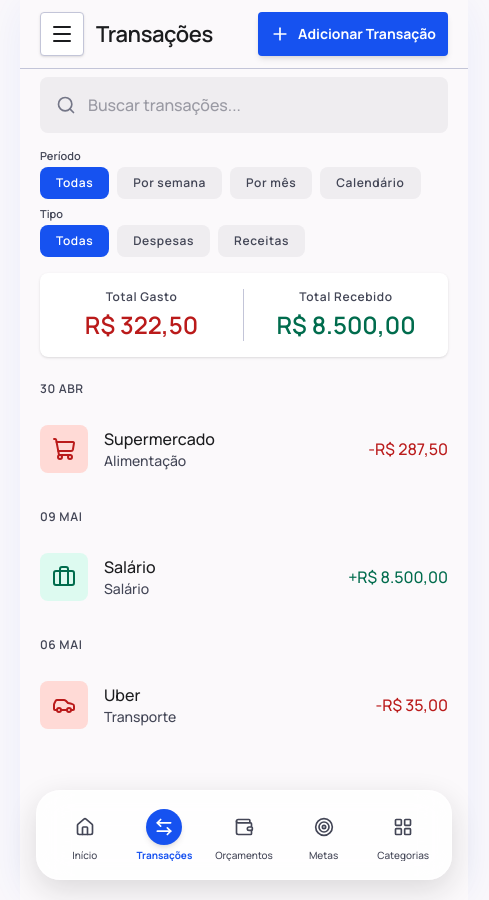
Test: TransacoesClient › filtra transações localmente pela categoria
Step 1. Type "transporte" into the field with placeholder "Buscar transações..." → (244, 105), box [40,77,448,133]
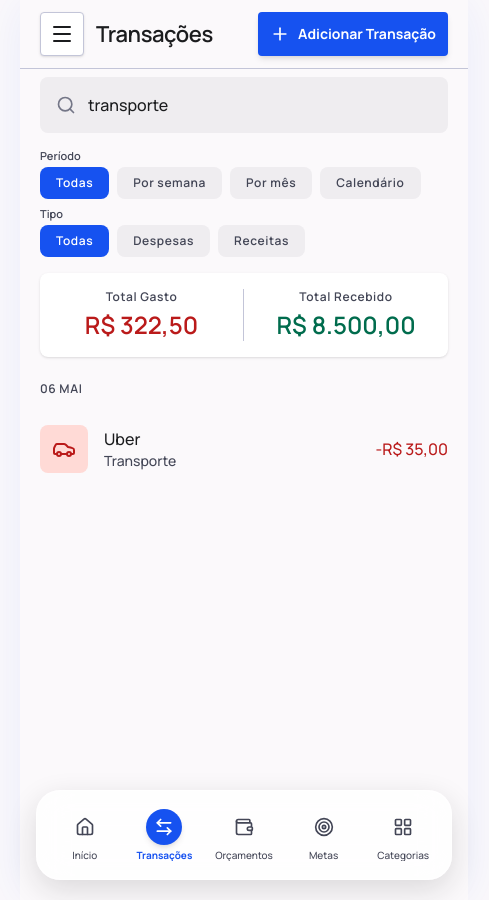
Expected: the text "Uber" is shown, [104,428,140,450]
Expected: the button "Supermercado" is gone
Expected: the button "Salário" is gone
